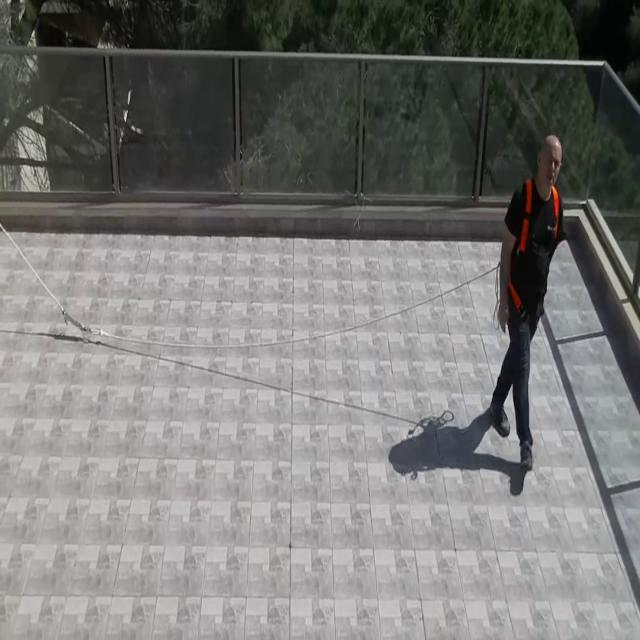Harness: (505, 176, 534, 315)
